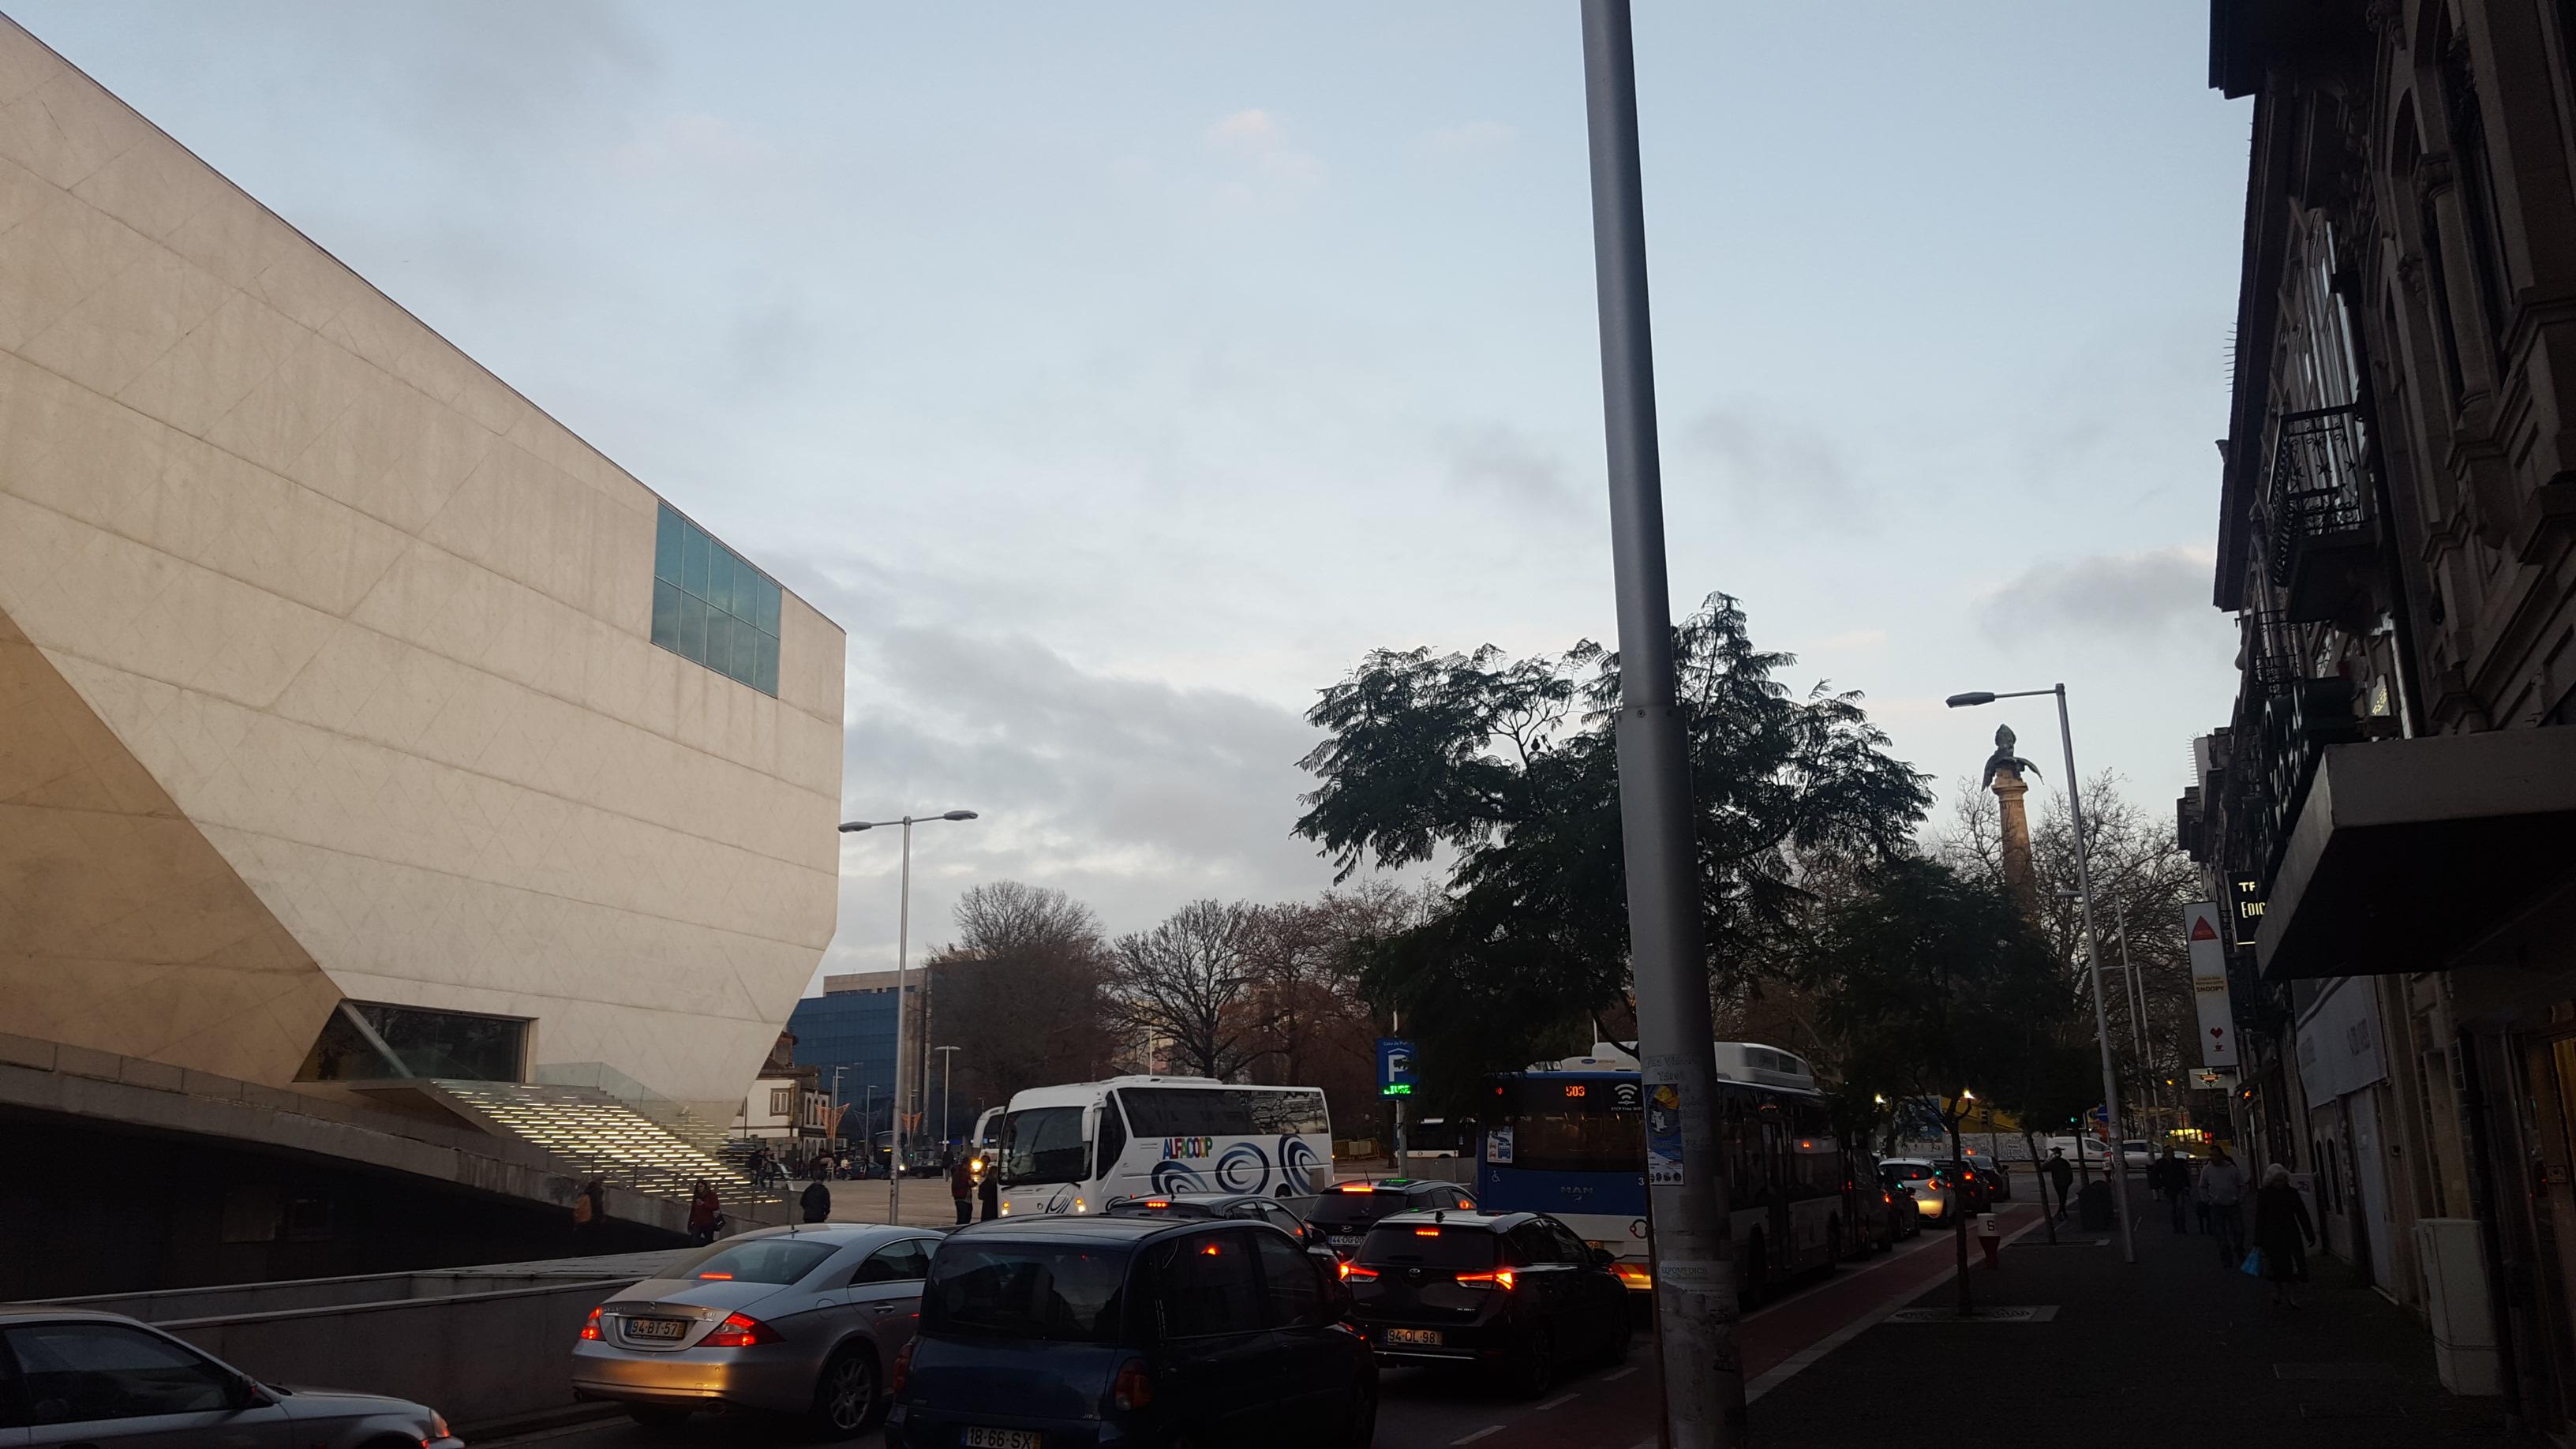musica: (0, 0, 821, 1152)
